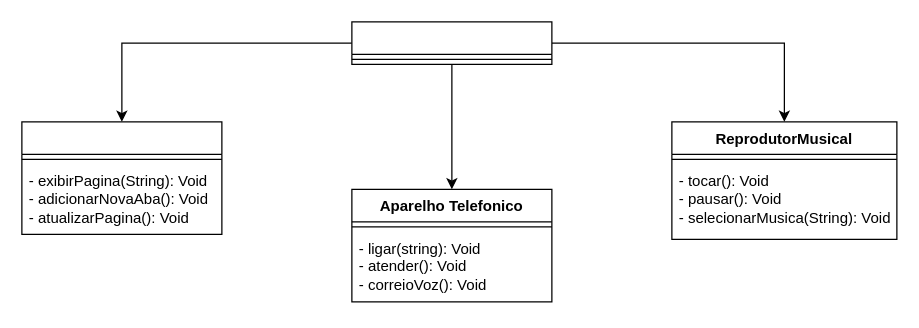
Some shapes in this 919 by 328 pixel diagram are drawn without their labels. Here are the shapes that lost their labels. From the top down, the box of each, then its label:
(351, 21, 552, 64): Iphone
(21, 121, 222, 234): Navegador
